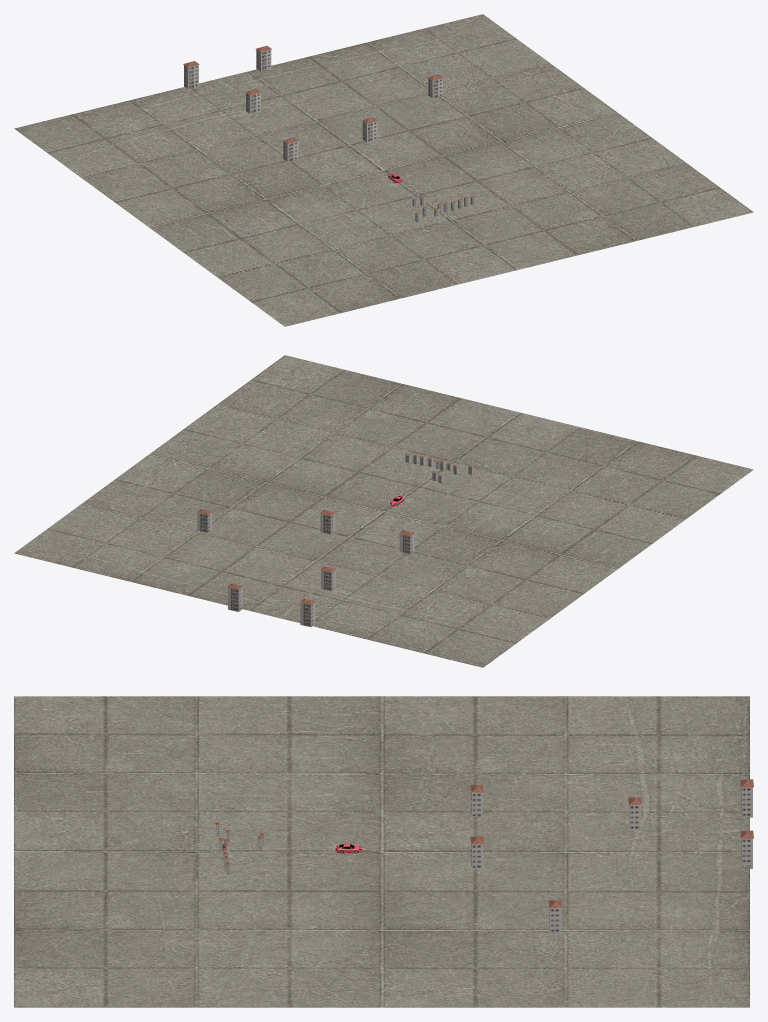
File: CarReflection2.obj
3 views of the same model, one above another, from view 1: azimuth 30°, elevation 25°; view 2: azimuth 150°, elevation 25°; view 3: azimuth 270°, elevation 25° (orthographic). The views are drawn at different scales.
Visible parts, largest first — view 1: mesh1.002_mesh1-geometry.001; view 2: mesh1.002_mesh1-geometry.001; view 3: mesh1.002_mesh1-geometry.001.
Part boxes in pixels (left/top/right/bottom): mesh1.002_mesh1-geometry.001: left=14, top=14, right=753, bottom=326; mesh1.002_mesh1-geometry.001: left=14, top=355, right=753, bottom=667; mesh1.002_mesh1-geometry.001: left=14, top=696, right=749, bottom=1007.
Bounding box in the file's own units: 185 × 10.84 × 186.
